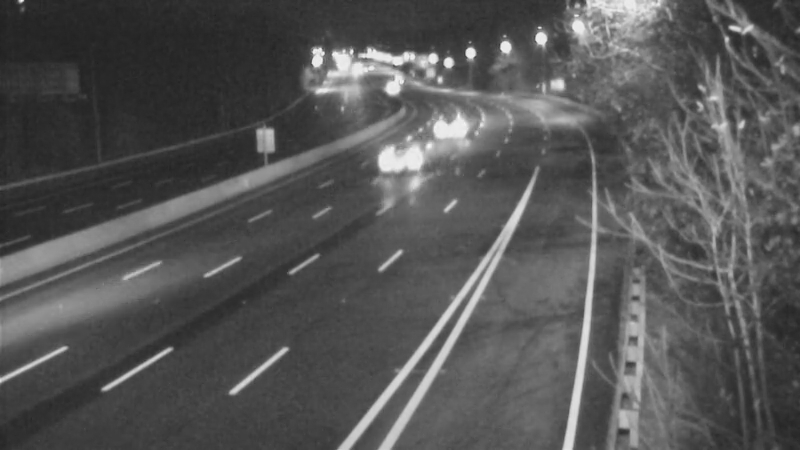vehicle: (351, 118, 431, 198), (428, 98, 478, 148)
